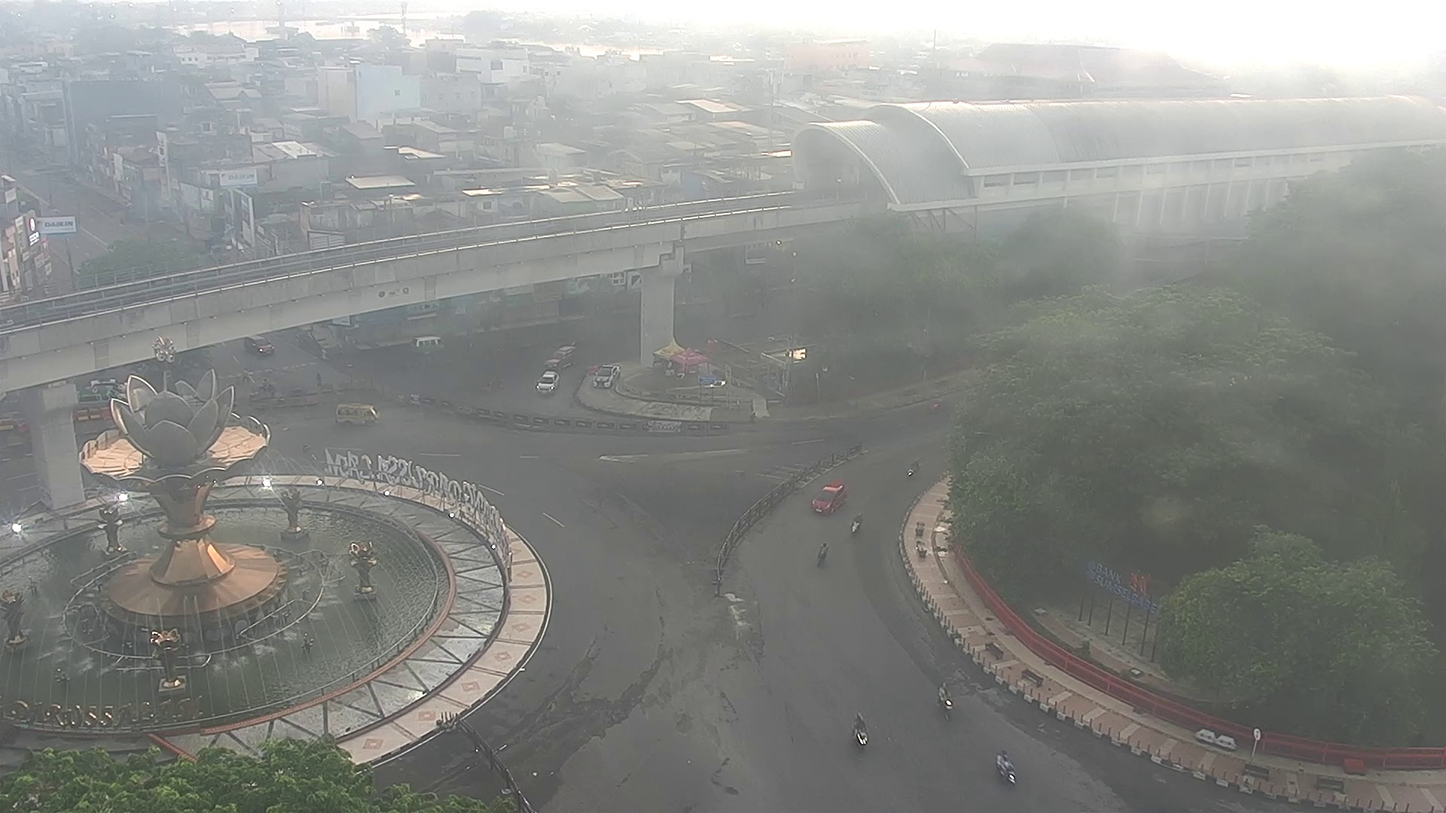Gerobak: (648, 340, 714, 379)
